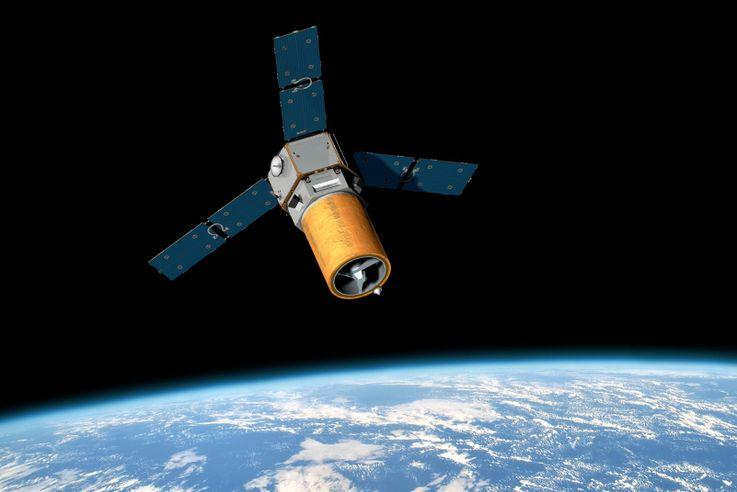antenna: (270, 155, 284, 177)
body: (265, 130, 392, 299)
solar: (148, 176, 280, 282), (345, 148, 480, 198), (271, 25, 329, 141)
